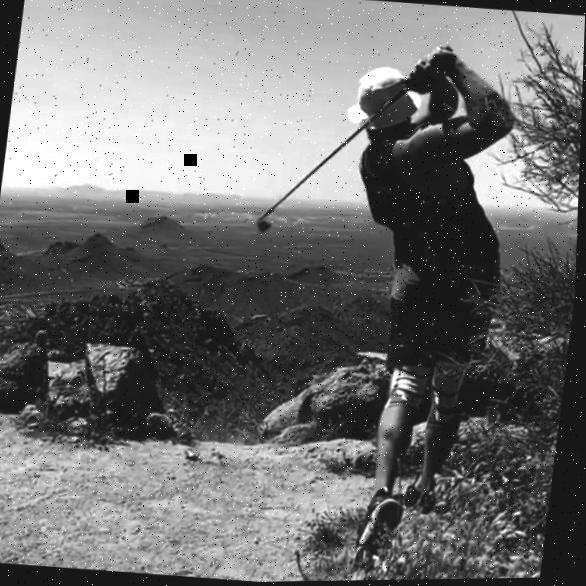ClubHead: (257, 218, 273, 234)
